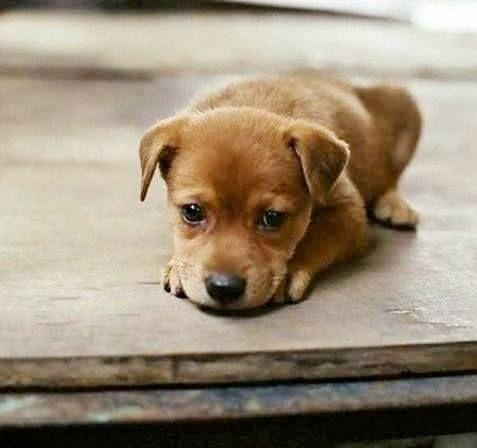puppy-dog: (136, 66, 424, 311)
